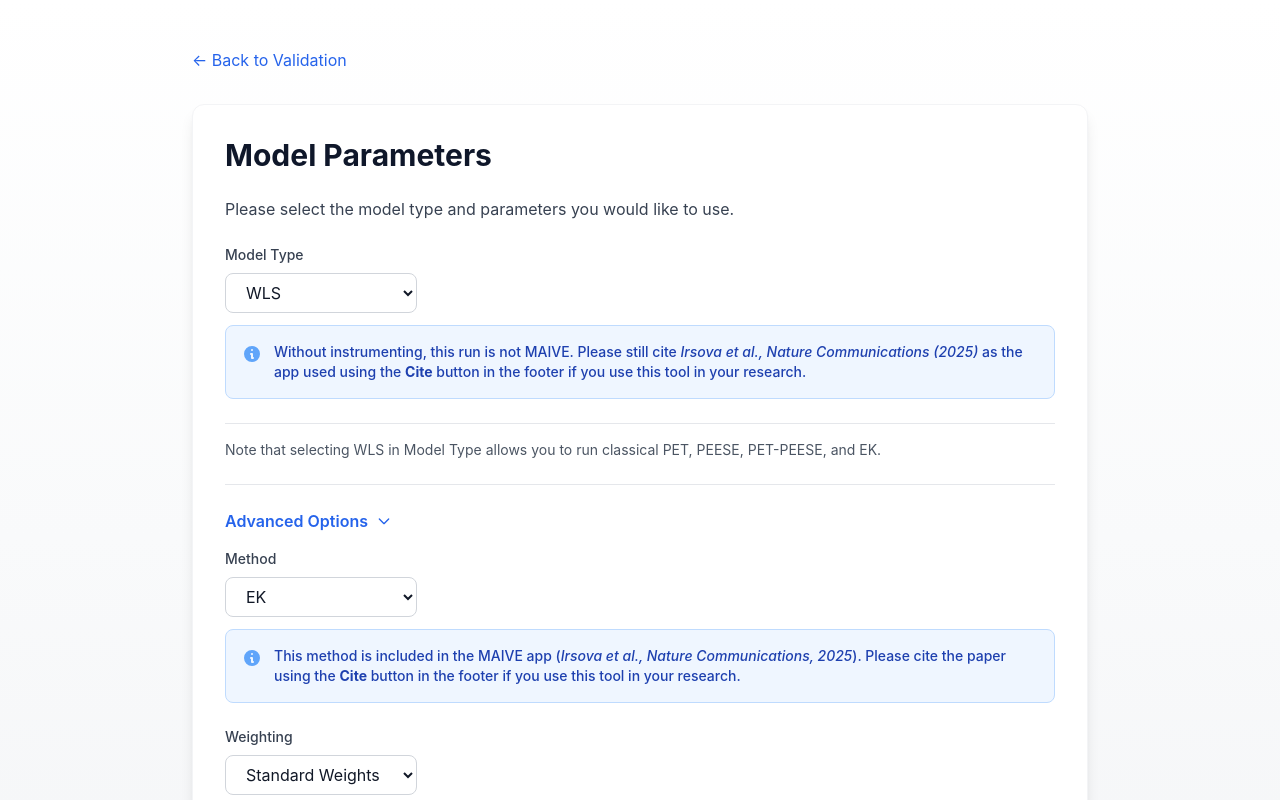
ModelPage model switch (#583) › resets method and weighting on WLS to MAIVE after browser Back
The width and height of the screenshot is (1280, 800).
Select "MAIVE" in the 1st dropdown at (321, 293), box left=225, top=273, right=417, bottom=313
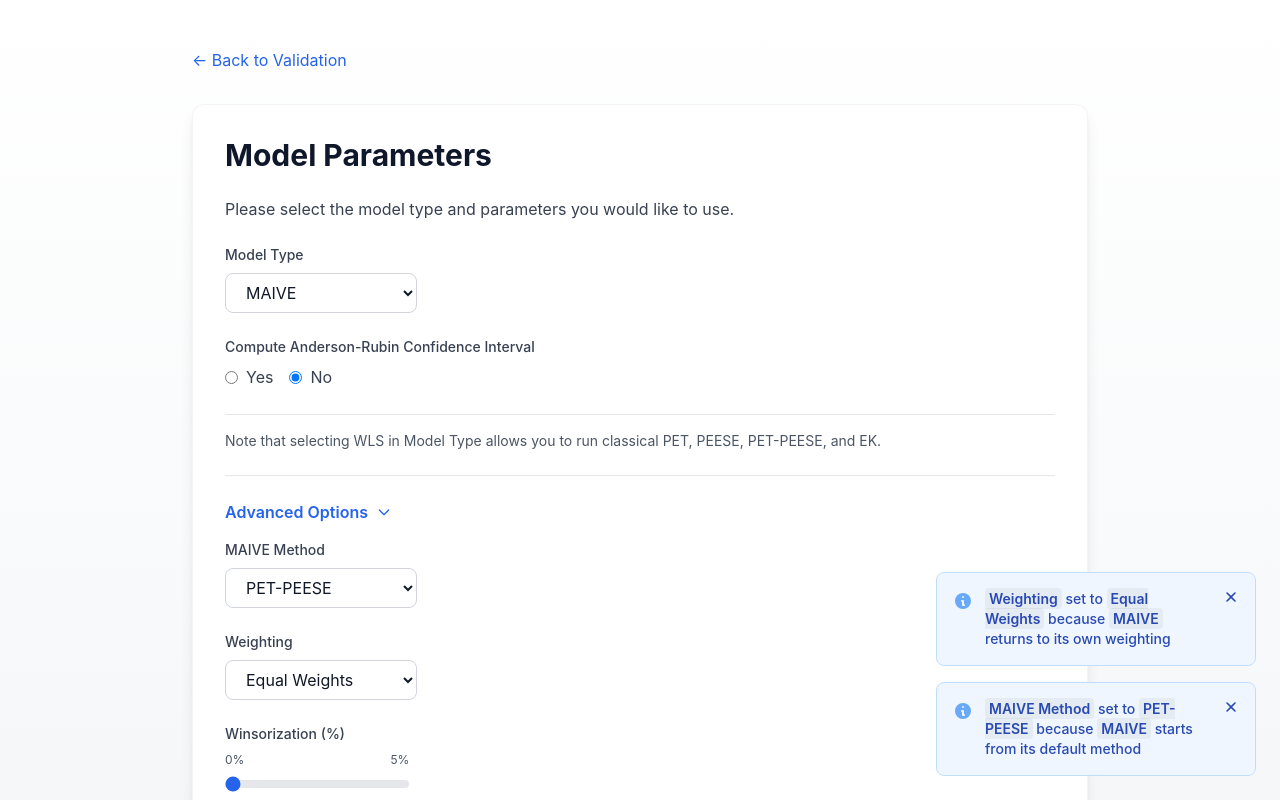
Expected: the 2nd dropdown shows "PET-PEESE", left=225, top=568, right=417, bottom=608
Expected: the 3rd dropdown shows "Equal Weights", left=225, top=660, right=417, bottom=700
Expected: the text "Compute Anderson-Rubin Confidence Interval" is shown, left=225, top=337, right=535, bottom=357
